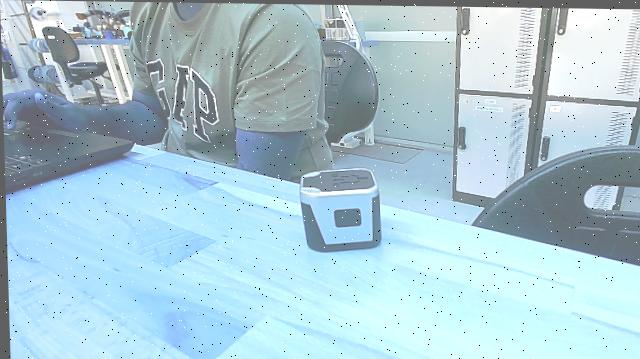adapter: (292, 161, 389, 261)
